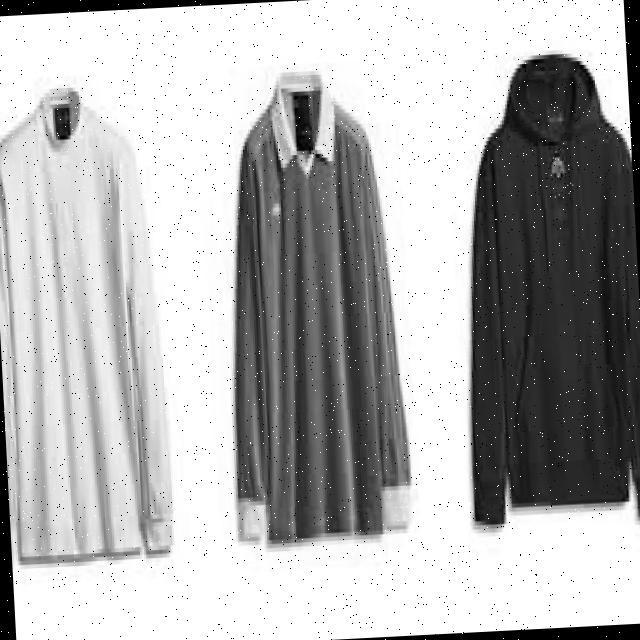Adidas: (544, 141, 574, 198)
